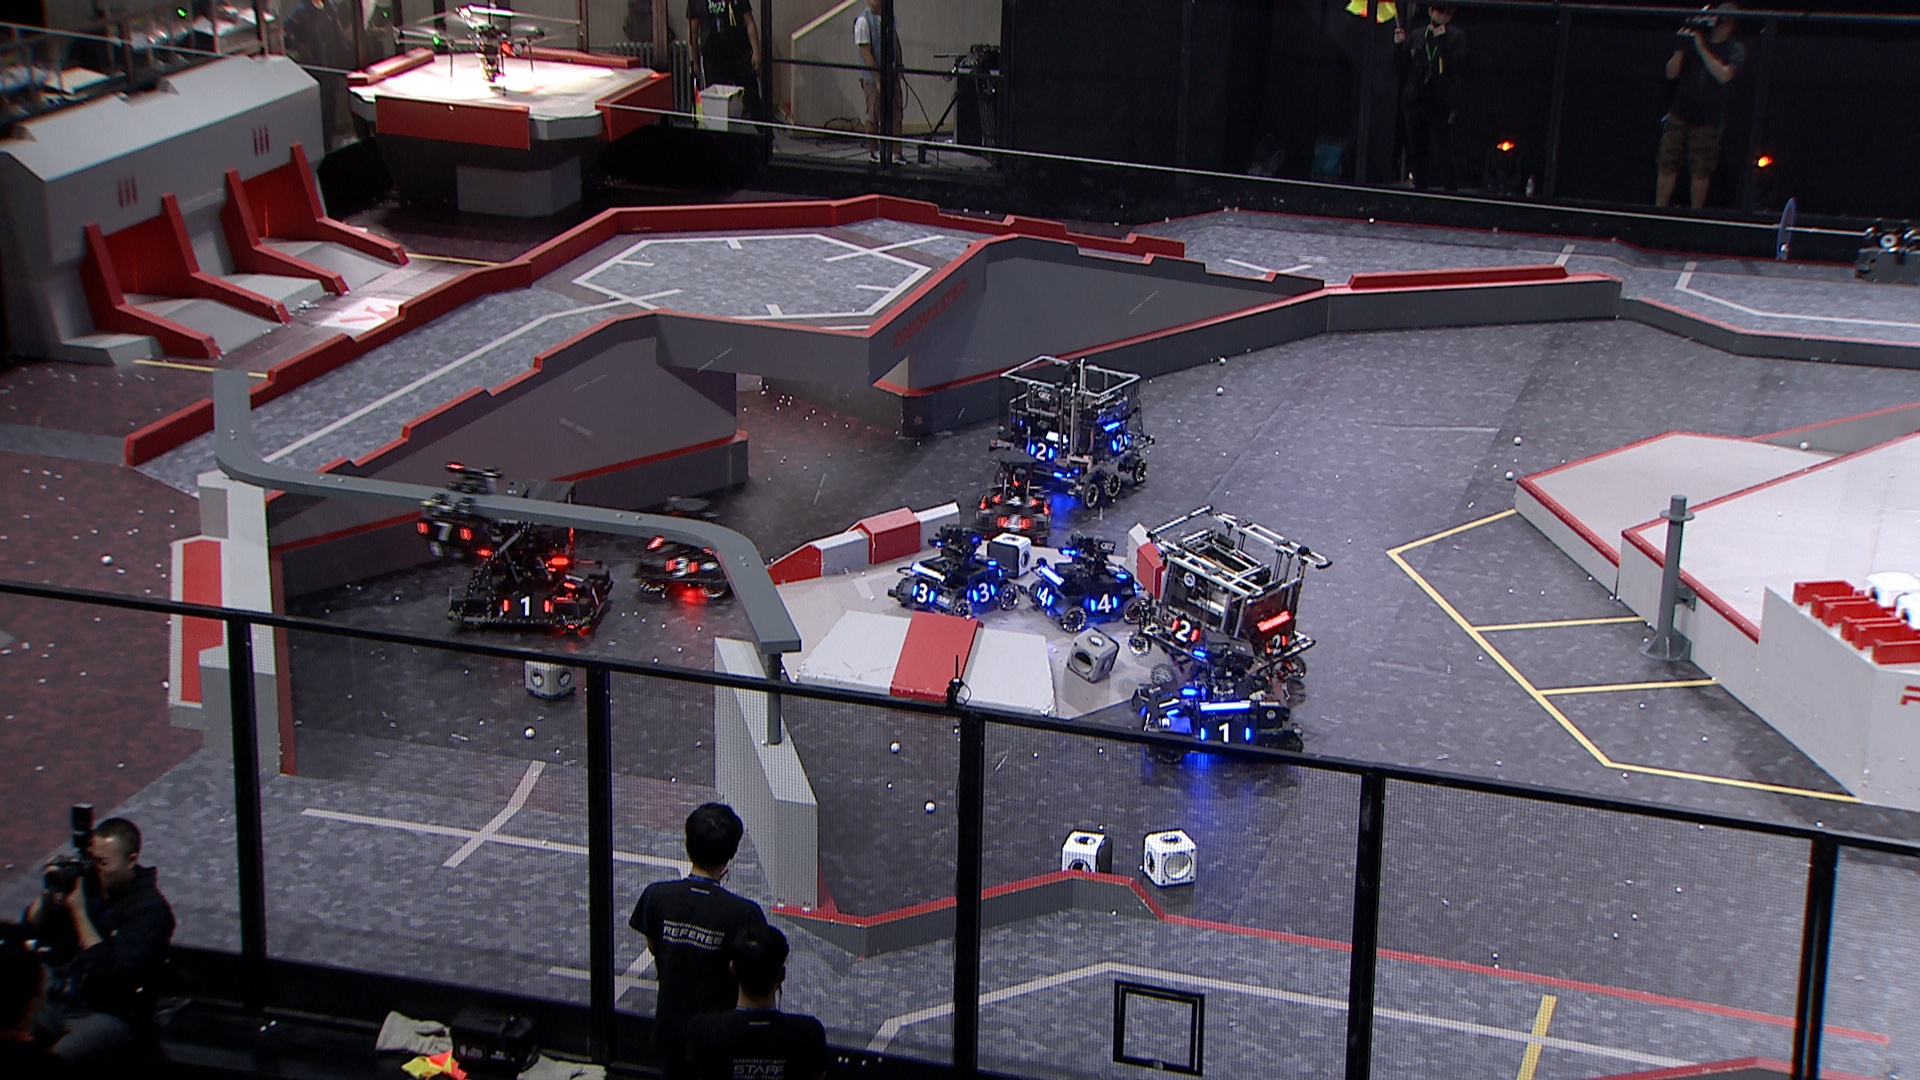armor: (415, 520, 473, 545), (500, 593, 553, 618), (1196, 721, 1251, 745), (659, 556, 700, 578), (1168, 618, 1199, 645), (1087, 593, 1120, 615), (1262, 636, 1291, 659), (910, 584, 939, 607), (968, 582, 994, 605), (1029, 442, 1058, 463), (1154, 694, 1179, 717), (992, 495, 1036, 508), (1033, 585, 1058, 608), (1000, 516, 1030, 534), (1135, 705, 1155, 733), (560, 570, 585, 591), (1102, 560, 1127, 580), (1110, 433, 1131, 454), (585, 585, 604, 609)
car: (1127, 504, 1332, 703), (444, 476, 615, 636), (988, 356, 1156, 508), (1129, 636, 1305, 766), (887, 520, 1025, 621), (1026, 527, 1155, 632), (638, 495, 744, 604), (977, 450, 1058, 543)
watcher: (407, 460, 508, 562)
